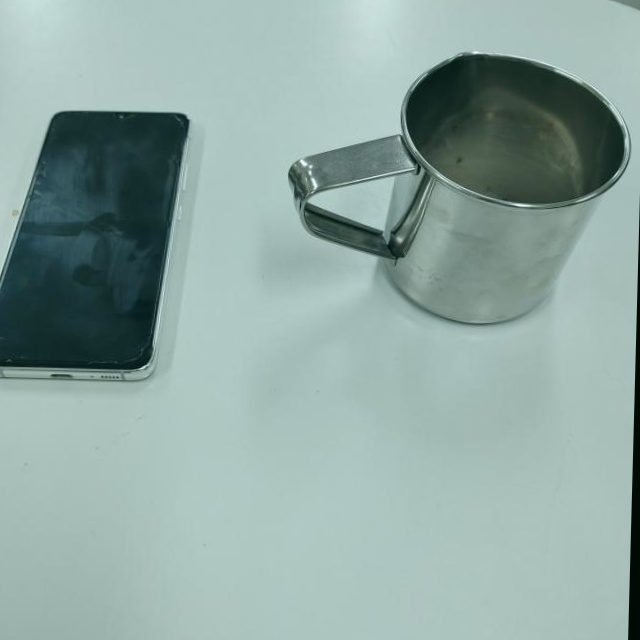cup: (282, 44, 633, 329)
phone: (0, 106, 188, 384)
